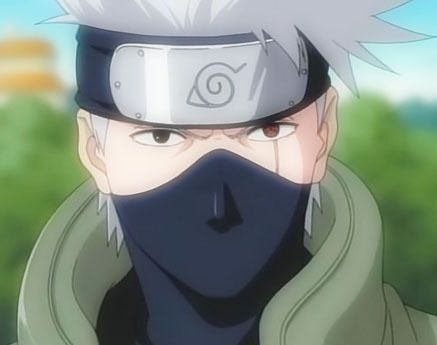kakashi: (66, 21, 342, 305)
